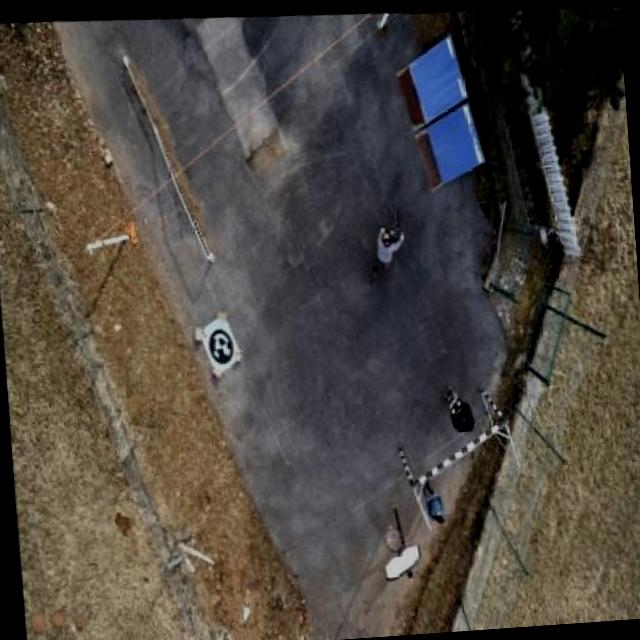Person: (414, 467, 458, 524), (436, 377, 481, 432), (371, 220, 414, 270)
